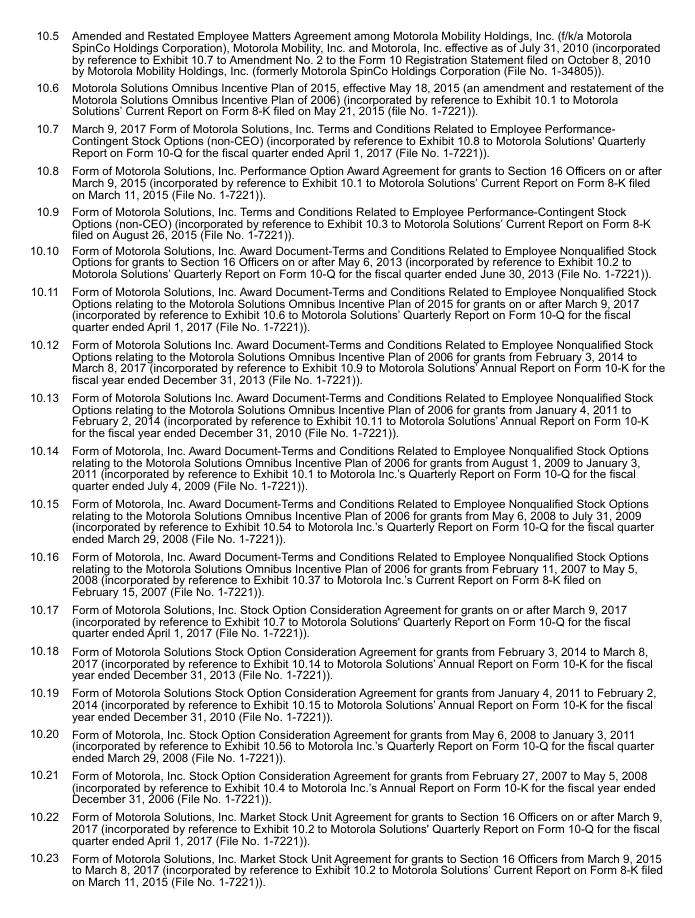table: (28, 28, 664, 887)
table column: (64, 28, 664, 887), (28, 28, 64, 887)
table row: (28, 334, 664, 387), (28, 387, 664, 440), (28, 440, 664, 493), (28, 493, 664, 546), (28, 546, 664, 599), (28, 282, 664, 334), (28, 28, 664, 78), (28, 160, 664, 202), (28, 599, 664, 641), (28, 682, 664, 724), (28, 806, 664, 848), (28, 78, 664, 119), (28, 119, 664, 160), (28, 241, 664, 282), (28, 641, 664, 682), (28, 724, 664, 765), (28, 765, 664, 806), (28, 202, 664, 241), (28, 848, 664, 887)
